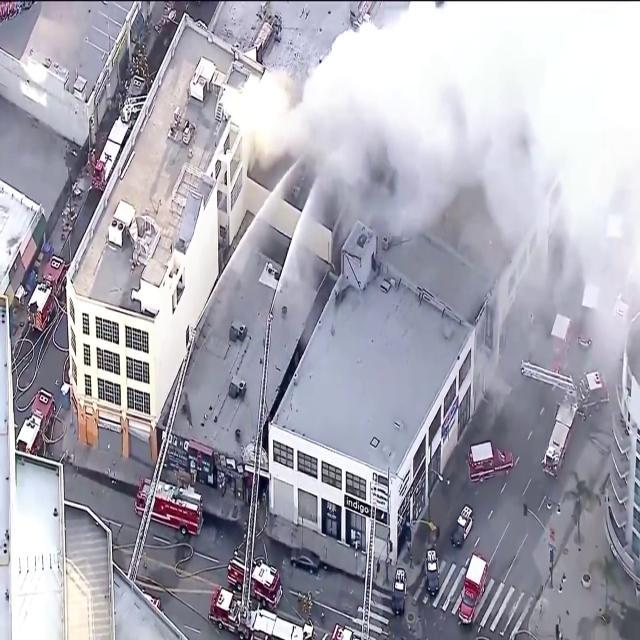Smoke: (244, 2, 640, 298)
